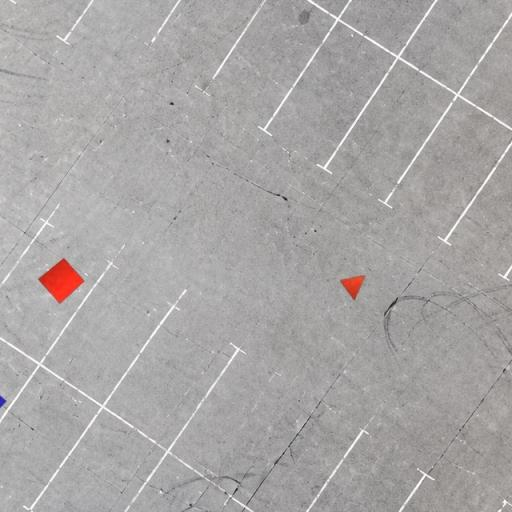RED_SQUARE: (38, 258, 84, 304)
